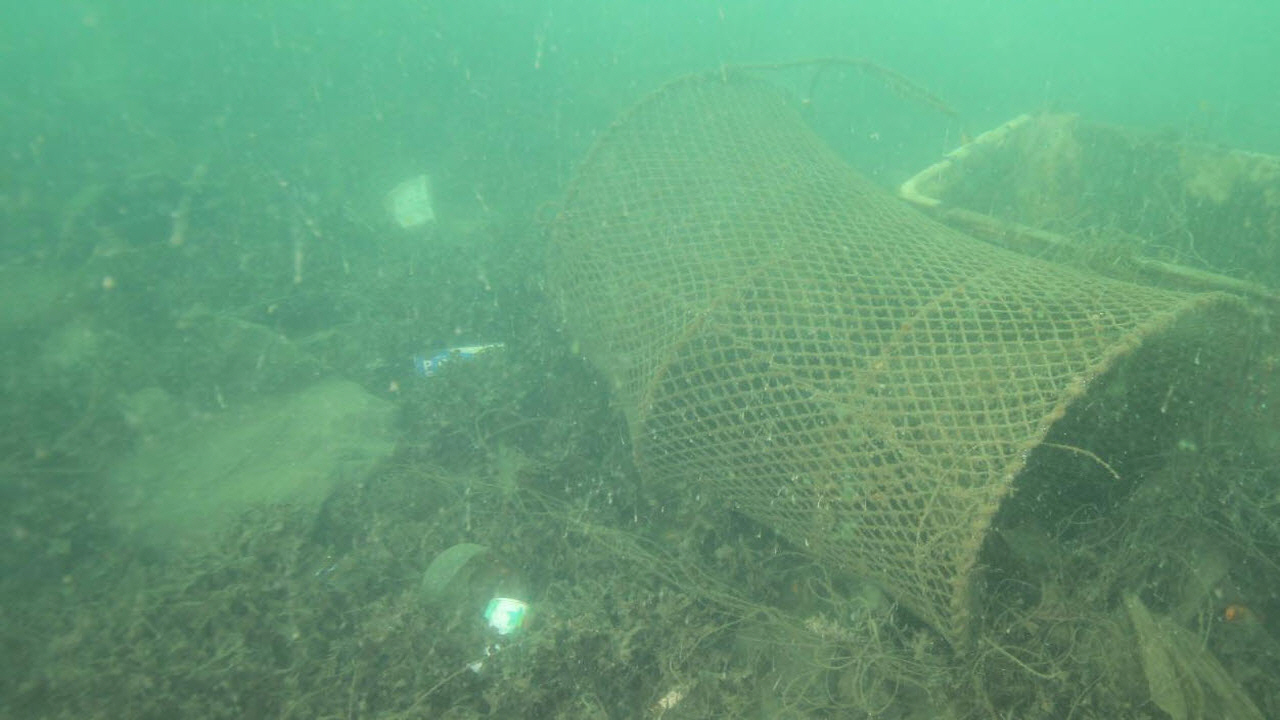spring fish trap: (543, 65, 1261, 669)
